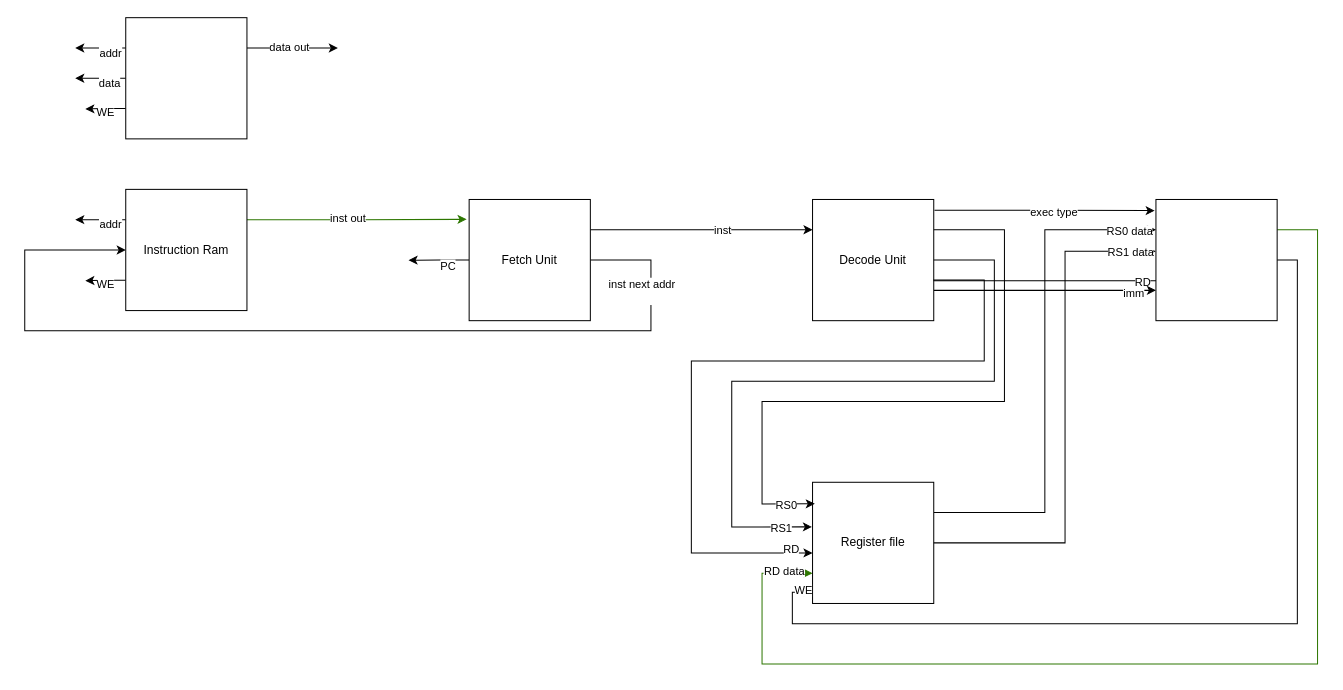
Image size: 1343x690. Some labels were removed from this diagram. The centre of each missing label's shape, as x and y in pixels:
"Data Ram" belongs at pixel 186 78.
"Execution Unit" belongs at pixel 1216 259.
